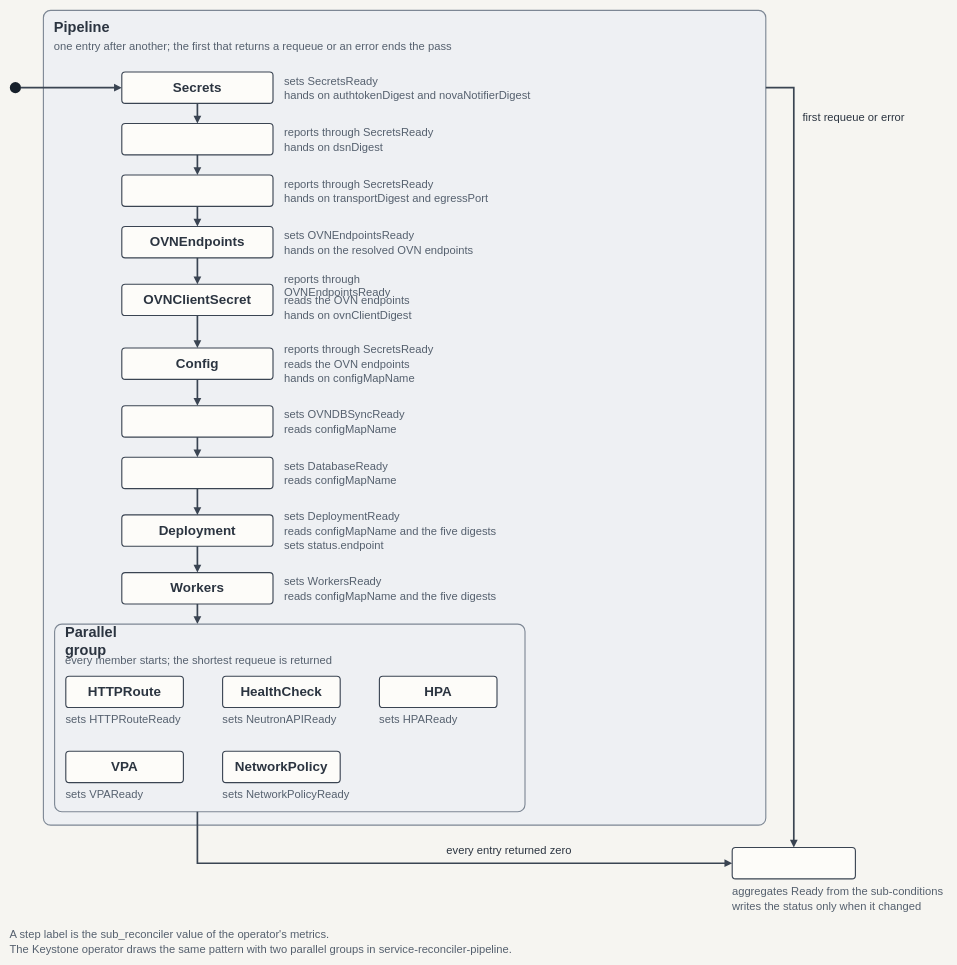
The diagram is 957 pixels wide and 965 high, and some of its shapes have lost their labels. The shapes that lost their labels are listed below. From the top down, each one's centre as x and y in pixels, then its label:
At point (197, 139): "DBConnectionSecret".
At point (197, 190): "TransportURLSecret".
At point (197, 421): "OVNDBSync".
At point (197, 472): "Database".
At point (793, 863): "updateStatus".
